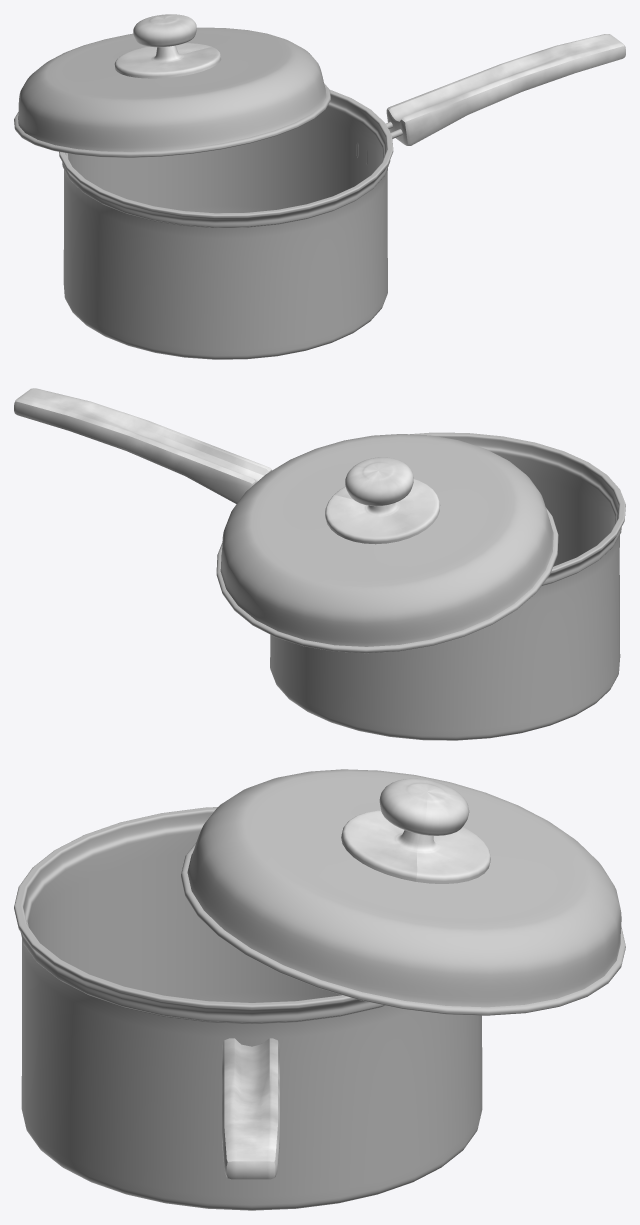
The model's file is nabe.glb.
The picture shows the model from 3 angles, top to bottom: view 1: azimuth 30°, elevation 25°; view 2: azimuth 150°, elevation 25°; view 3: azimuth 270°, elevation 25°; orthographic projection. The views are drawn at different scales.
Parts seen in each view (by area): view 1: metal, black; view 2: metal, black; view 3: metal, black.
Boxes of the visible parts, x1,y1,x2,y2 form: metal: (14,27,402,359); black: (114,14,625,145); metal: (216,432,625,740); black: (14,388,440,544); metal: (14,769,625,1210); black: (222,778,490,1179).
Size of the model in its own units: 0.3794 by 0.1555 by 0.2636.
2 materials, 1 textured.
